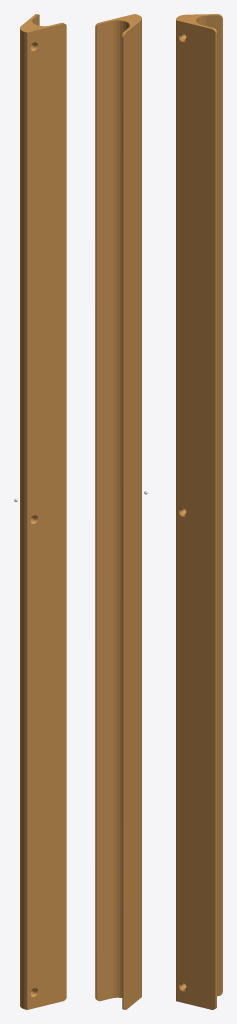
File: 163 pvd gold.glb
3 views of the same model, side by side, from view 1: azimuth 30°, elevation 25°; view 2: azimuth 210°, elevation 25°; view 3: azimuth 330°, elevation 25° (orthographic).
Visible parts, largest first — view 1: CABINET_HANDLE_163; view 2: CABINET_HANDLE_163; view 3: CABINET_HANDLE_163.
Boxes of the visible parts, x1,y1,x2,y2 form: CABINET_HANDLE_163: [20, 14, 66, 1009]; CABINET_HANDLE_163: [95, 14, 141, 1009]; CABINET_HANDLE_163: [176, 14, 222, 1009].
Bounding box in the file's own units: 0.4775 × 10.07 × 0.3338.
